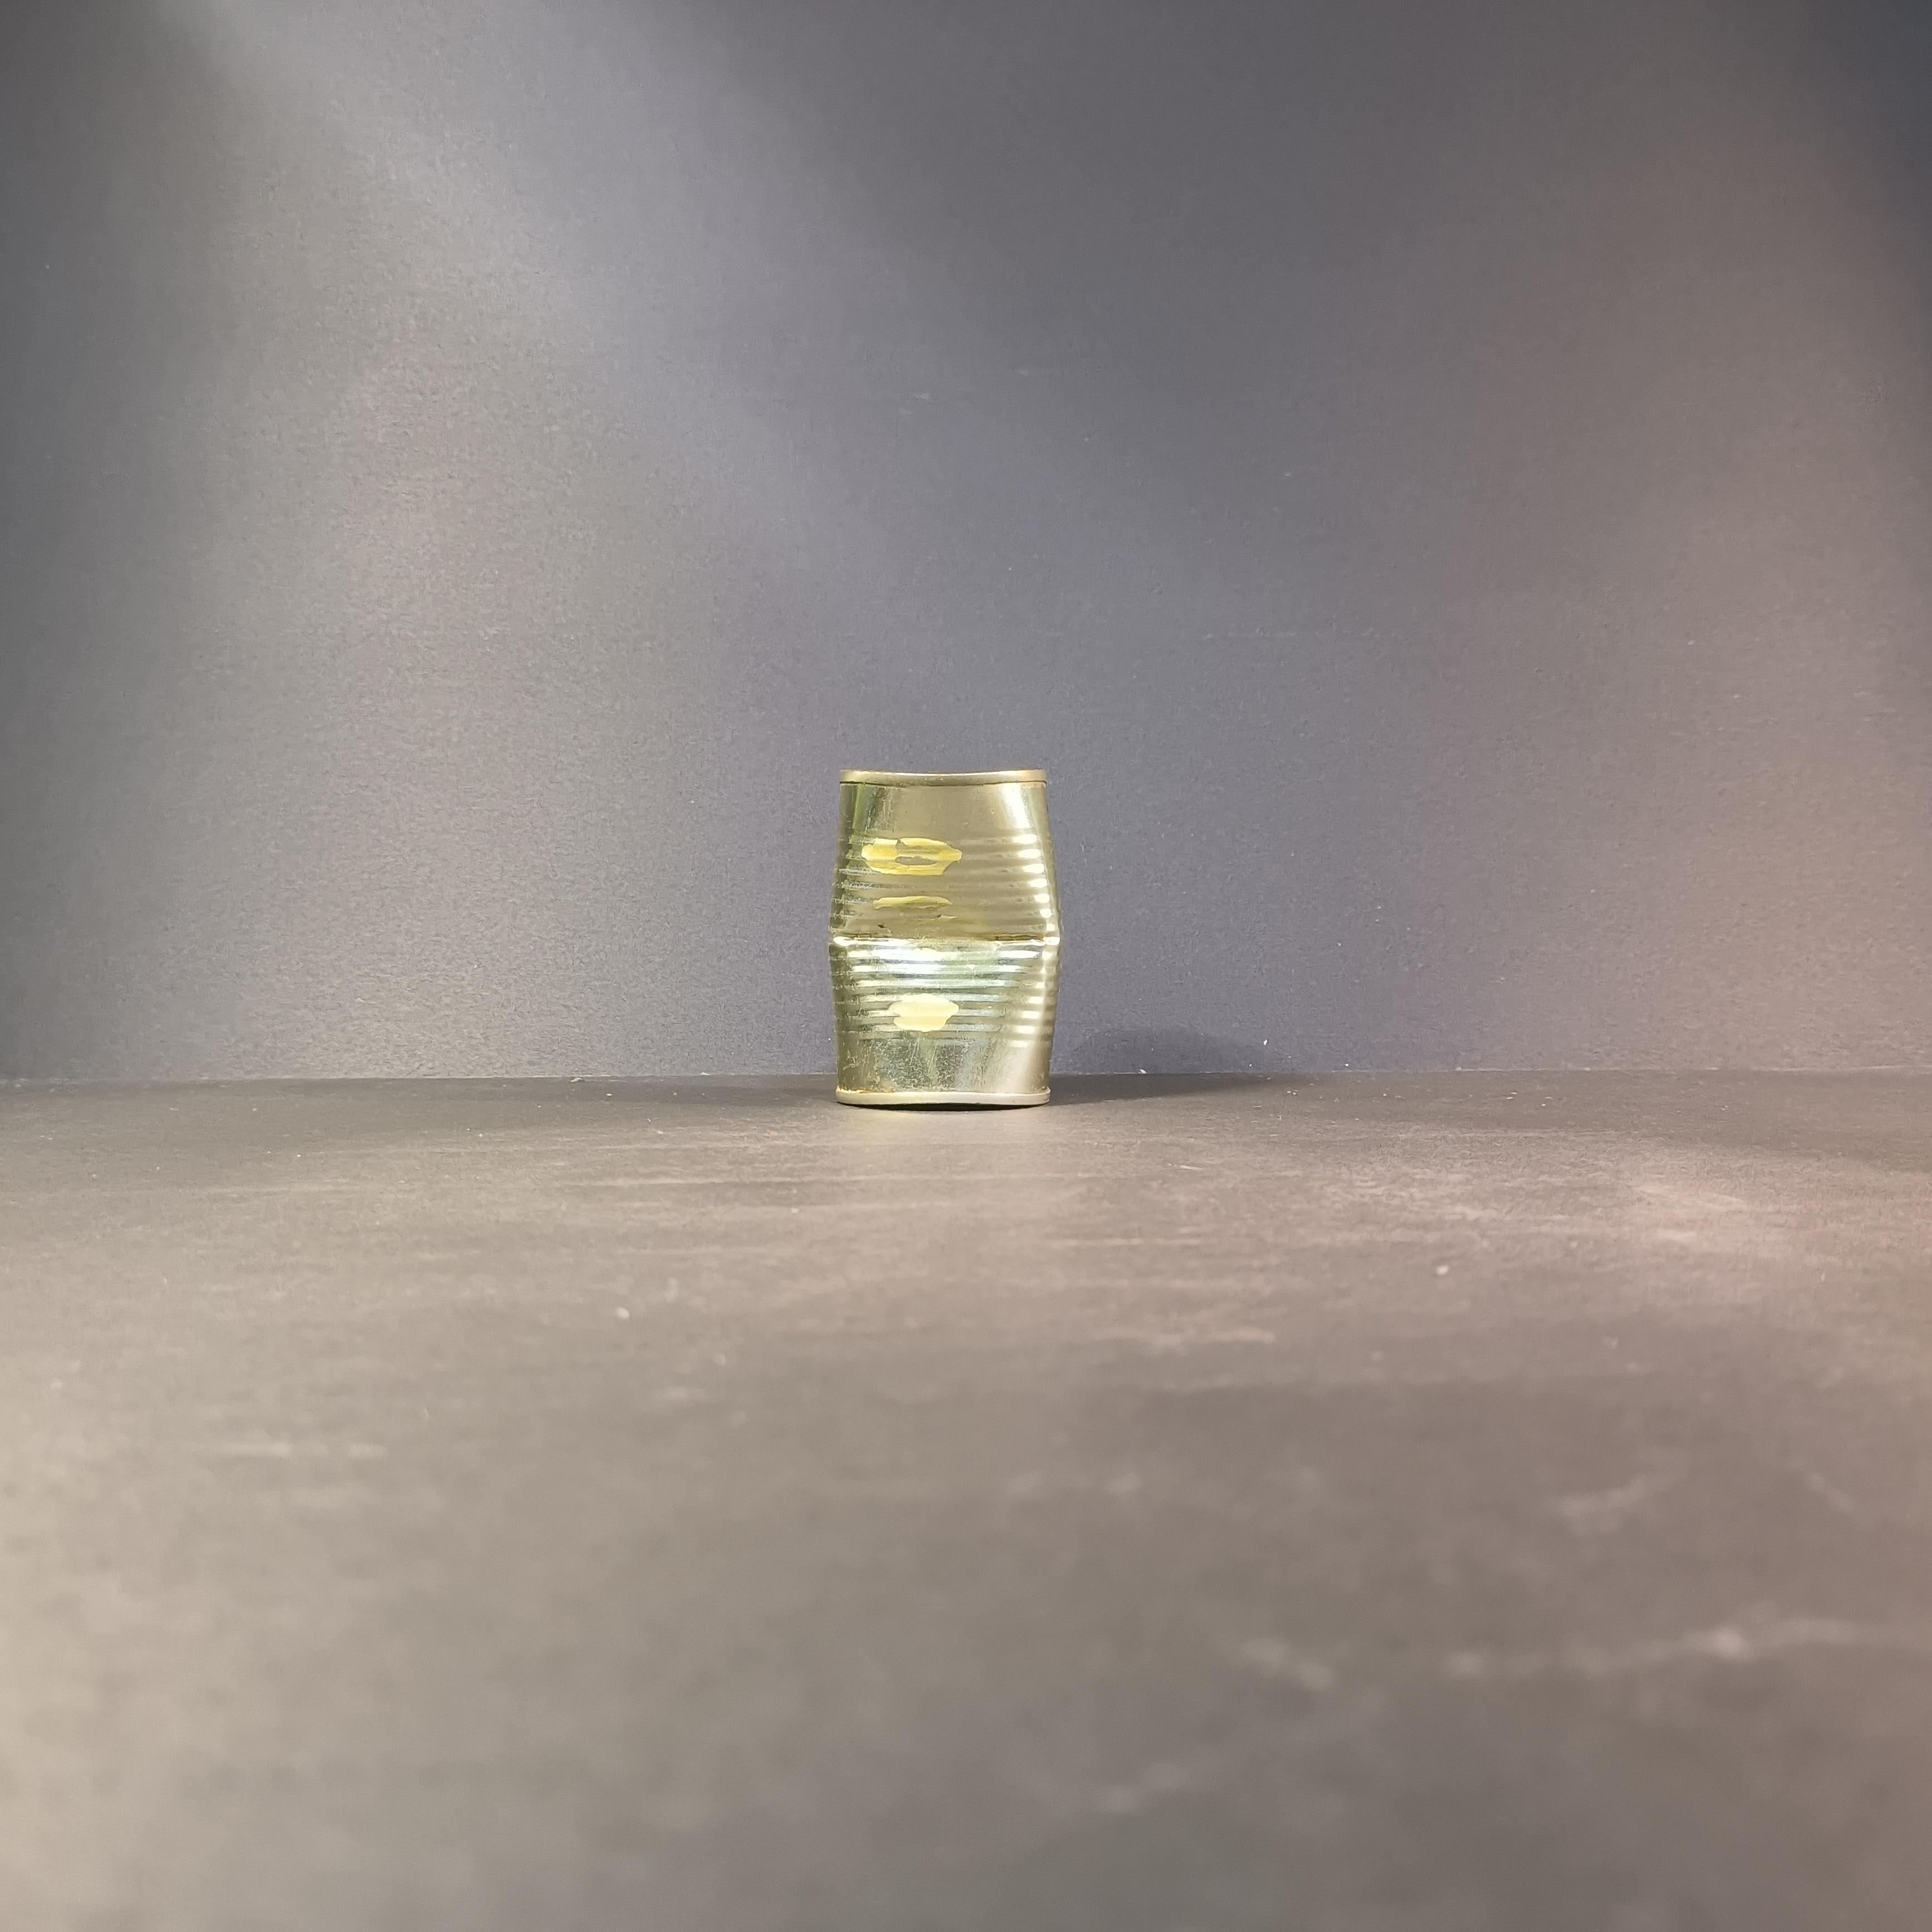Dented: (799, 737, 1080, 1135)
